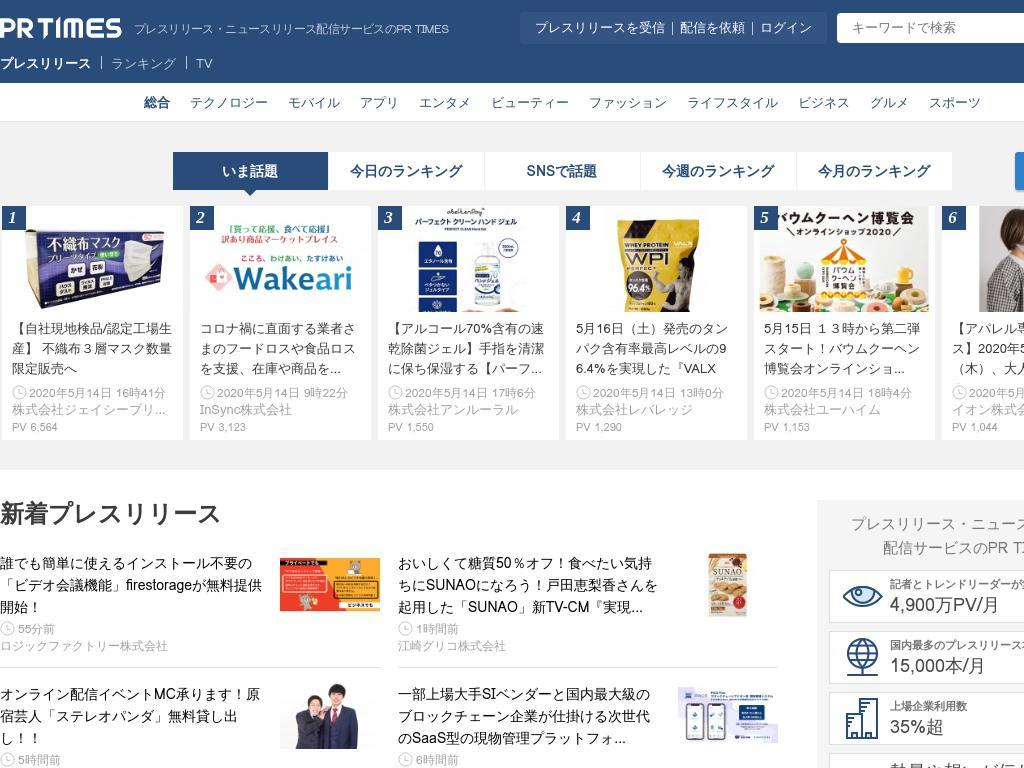button: (817, 500, 1024, 768), (2, 206, 183, 440), (190, 206, 371, 440), (378, 206, 559, 440), (566, 206, 747, 440), (754, 206, 935, 440), (0, 552, 380, 654), (398, 552, 778, 654), (0, 683, 380, 768), (398, 683, 778, 768), (942, 206, 1024, 440), (0, 637, 168, 655), (398, 637, 506, 655), (1015, 152, 1024, 190)
field: (837, 13, 1024, 43)
heading: (0, 500, 778, 527), (0, 552, 265, 618), (398, 552, 663, 618), (0, 683, 265, 749), (398, 683, 663, 749), (134, 21, 449, 35), (851, 512, 1024, 536), (882, 536, 1024, 560)
image: (2, 206, 183, 327), (190, 206, 371, 327), (378, 206, 559, 327), (566, 206, 747, 327), (754, 206, 935, 327), (942, 206, 1024, 327), (280, 552, 380, 619), (678, 552, 778, 619), (280, 683, 380, 750), (678, 683, 778, 750), (172, 152, 328, 190), (0, 16, 122, 40), (835, 576, 890, 617), (835, 637, 890, 678), (835, 698, 890, 739), (835, 763, 890, 768)
link: (12, 319, 173, 384), (200, 319, 361, 384), (388, 319, 549, 384), (576, 319, 737, 384), (764, 319, 925, 384), (952, 319, 1024, 384), (0, 621, 265, 636), (398, 621, 663, 636), (0, 752, 265, 767), (398, 752, 663, 767), (12, 399, 181, 420), (890, 591, 1024, 617), (890, 652, 1024, 678), (388, 399, 518, 420), (576, 399, 693, 420), (764, 399, 881, 420), (12, 386, 173, 401), (200, 386, 361, 401), (388, 386, 549, 401), (576, 386, 737, 401), (764, 386, 925, 401), (535, 18, 665, 36), (12, 403, 173, 417), (200, 403, 361, 417), (388, 403, 549, 417), (576, 403, 737, 417), (764, 403, 925, 417), (890, 576, 1024, 592), (890, 637, 1024, 653), (890, 713, 967, 739), (12, 421, 173, 433), (200, 421, 361, 433), (200, 399, 292, 420), (388, 421, 549, 433), (576, 421, 737, 433), (764, 421, 925, 433), (687, 92, 778, 113), (190, 92, 268, 113), (491, 92, 569, 113), (589, 92, 667, 113), (952, 399, 1024, 420), (0, 56, 91, 70), (890, 698, 967, 714), (890, 759, 1024, 768), (680, 18, 745, 36), (760, 17, 812, 38), (288, 92, 340, 113), (419, 92, 471, 113), (798, 92, 850, 113), (929, 92, 981, 113), (952, 386, 1024, 401), (952, 403, 1024, 417), (111, 56, 176, 70), (952, 421, 1024, 433), (360, 92, 399, 113), (870, 92, 909, 113), (144, 92, 170, 113), (196, 53, 213, 74)
text: (172, 152, 328, 190), (328, 152, 484, 190), (484, 152, 640, 190), (640, 152, 796, 190), (796, 152, 952, 190), (0, 636, 265, 654), (398, 636, 663, 654), (12, 385, 173, 400), (200, 385, 361, 400), (388, 385, 549, 400), (576, 385, 737, 400), (764, 385, 925, 400), (12, 421, 173, 433), (200, 421, 361, 433), (388, 421, 549, 433), (576, 421, 737, 433), (764, 421, 925, 433), (952, 385, 1024, 400), (952, 421, 1024, 433), (2, 206, 26, 230), (190, 206, 214, 230), (378, 206, 402, 230), (566, 206, 590, 230), (754, 206, 778, 230), (942, 206, 966, 230), (0, 767, 265, 768), (398, 767, 663, 768)
